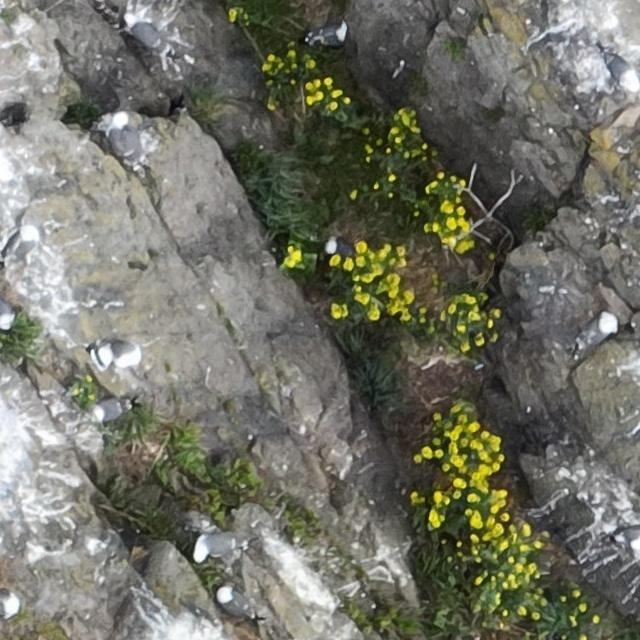umineko: (110, 110, 147, 169), (3, 223, 39, 271), (96, 339, 145, 368), (197, 538, 238, 560), (604, 53, 633, 82), (584, 315, 614, 340), (92, 399, 126, 421), (219, 592, 249, 615), (314, 24, 347, 44), (326, 238, 353, 256), (616, 527, 640, 544), (1, 595, 19, 616), (0, 297, 12, 327)
